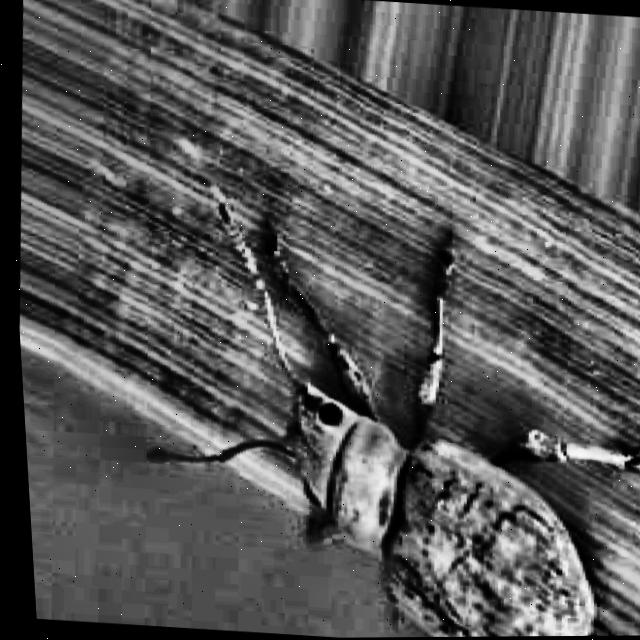Stink bug: (161, 305, 640, 639)
